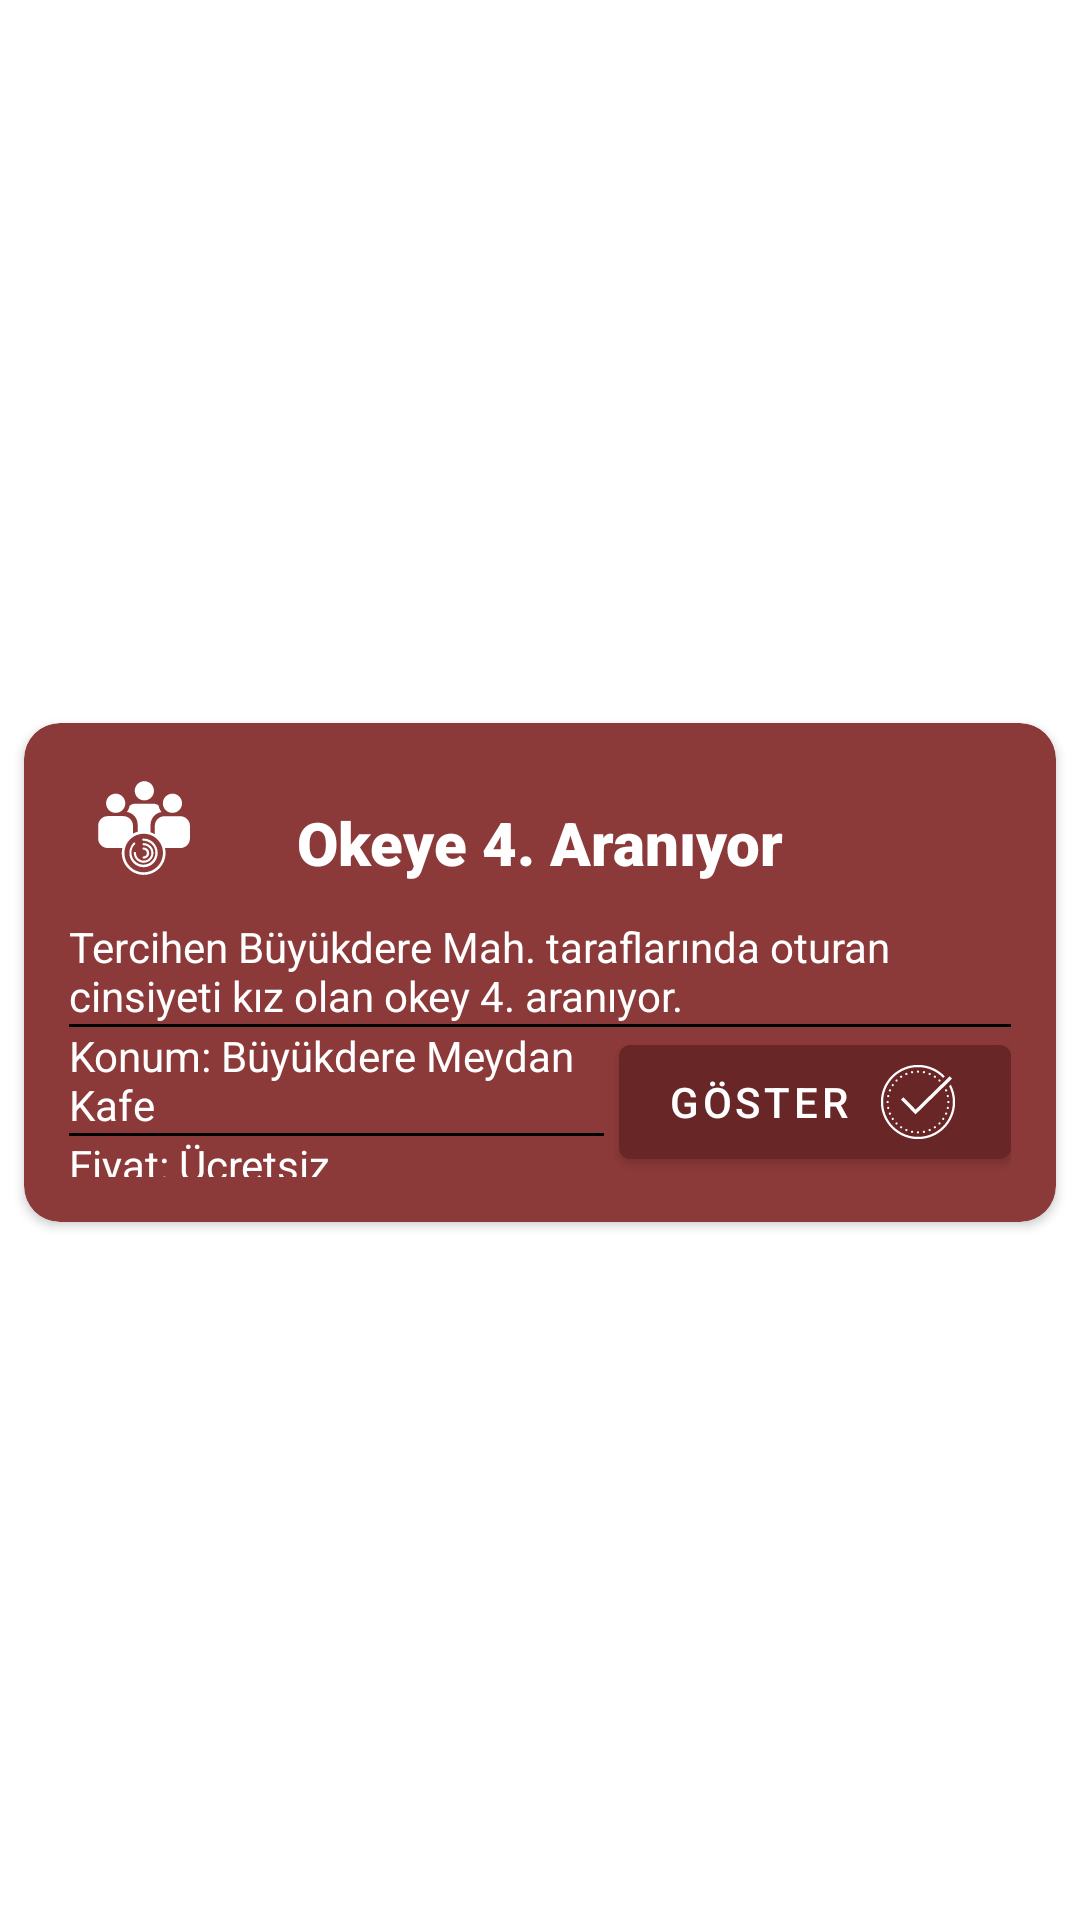

Where to tap for icons on this 1080px×1920px app screen, as [x,y]:
group activities: [144,828]
